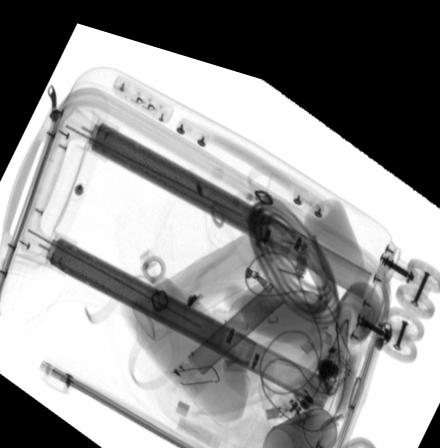Sprayer: (130, 209, 290, 330)
